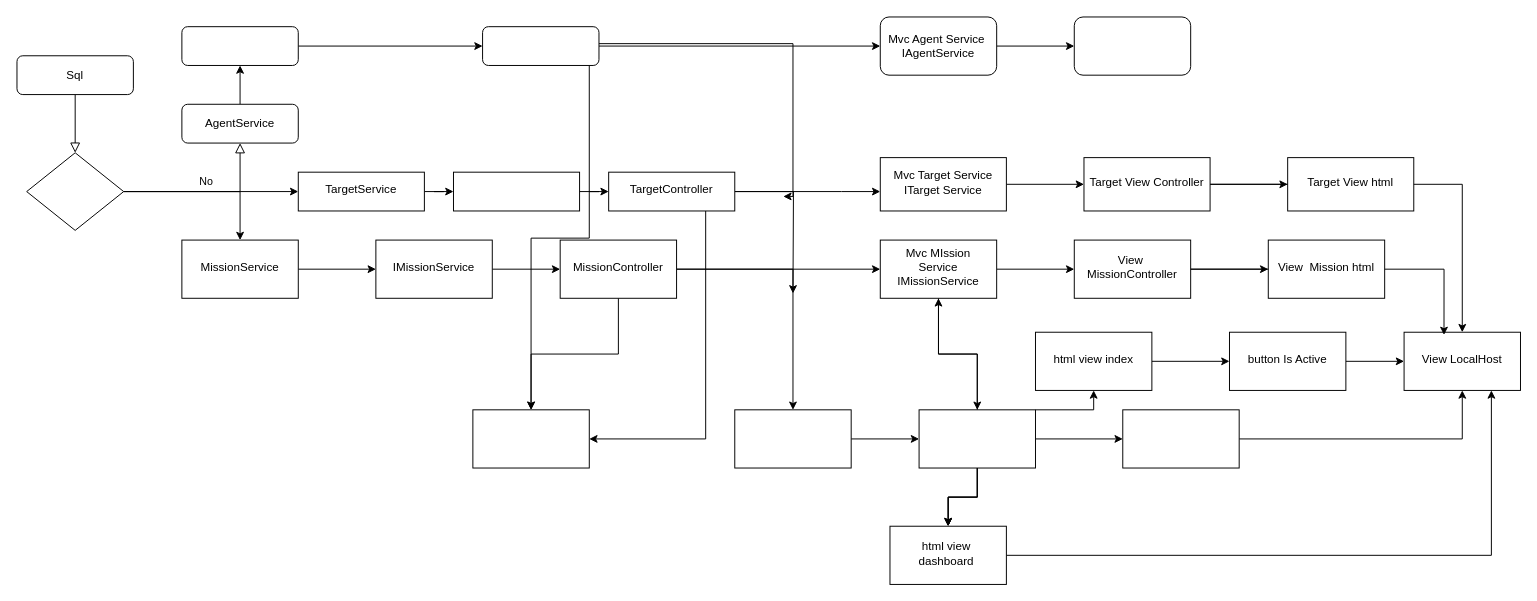
This 1537x601 diagram has some shape labels left out. The shapes that lost their labels are listed below. From the top down, each one's box as (x1, y1, x2, y2) in pixels, then its label:
(181, 26, 298, 65): IAgentService
(482, 26, 599, 65): AgentController
(1073, 16, 1191, 75): Agent View Controller
(26, 152, 124, 230): DbContext
(453, 171, 580, 211): ITargetService
(472, 409, 589, 468): Simulation
(734, 409, 851, 468): General Service IGeneralService
(918, 409, 1035, 468): General View Controller
(1122, 409, 1239, 468): html details
